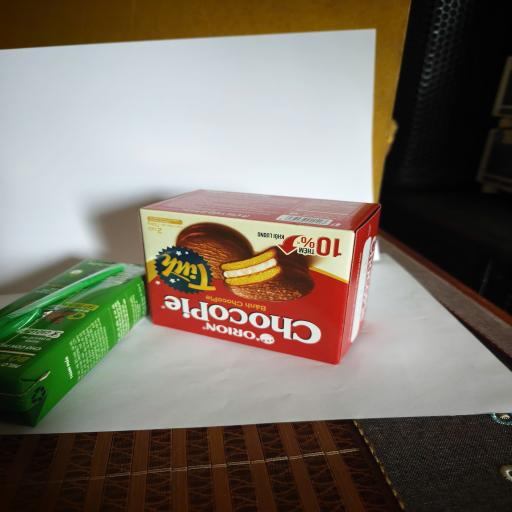chocopie: (138, 189, 381, 365)
milo: (0, 257, 149, 428)
